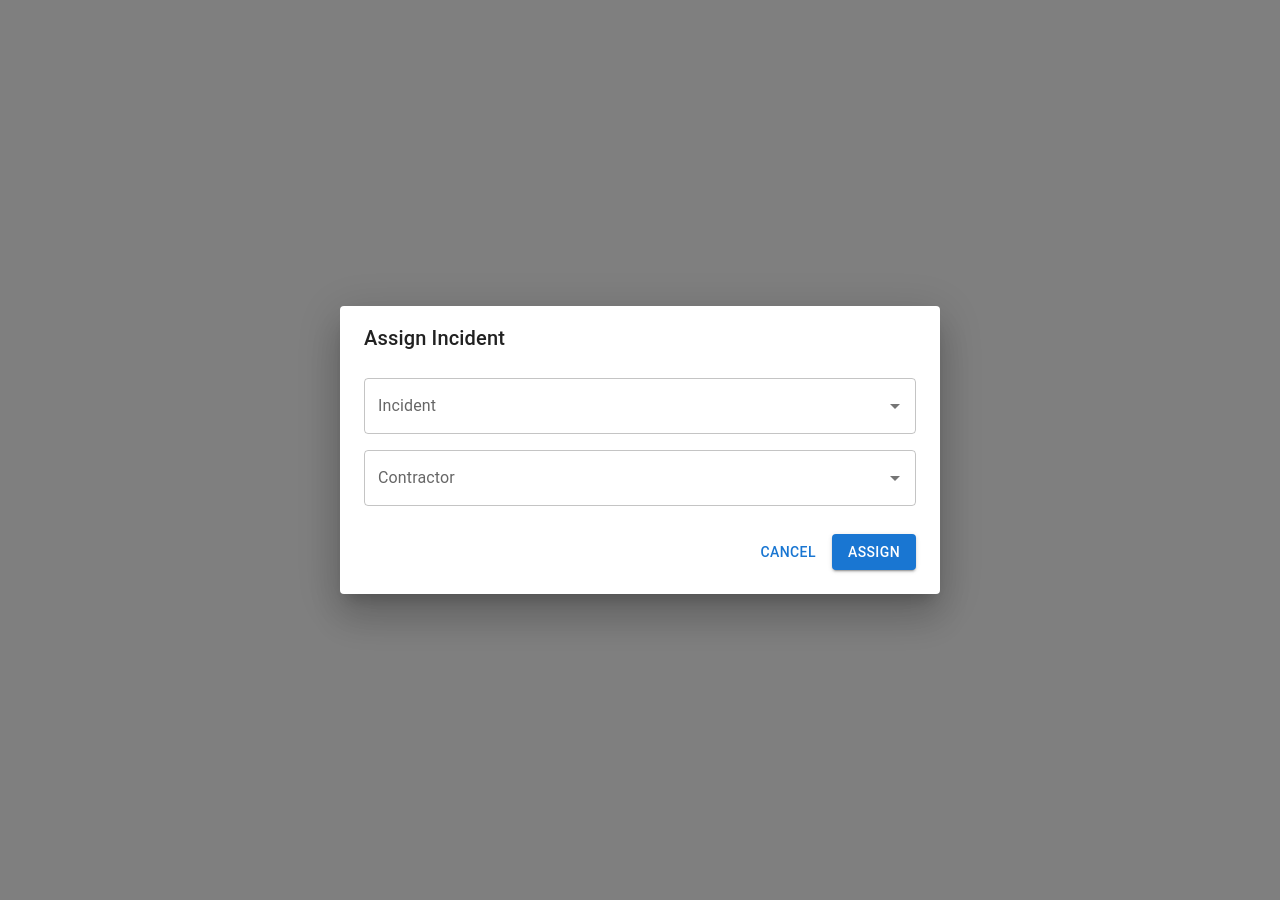
Test: AssignIncidentModal contractor eligibility › shows a contractor specialised in OTHER regardless of the incident's issue type
Click the dropdown labelled "Incident": [625, 406] box [373,387,877,425]
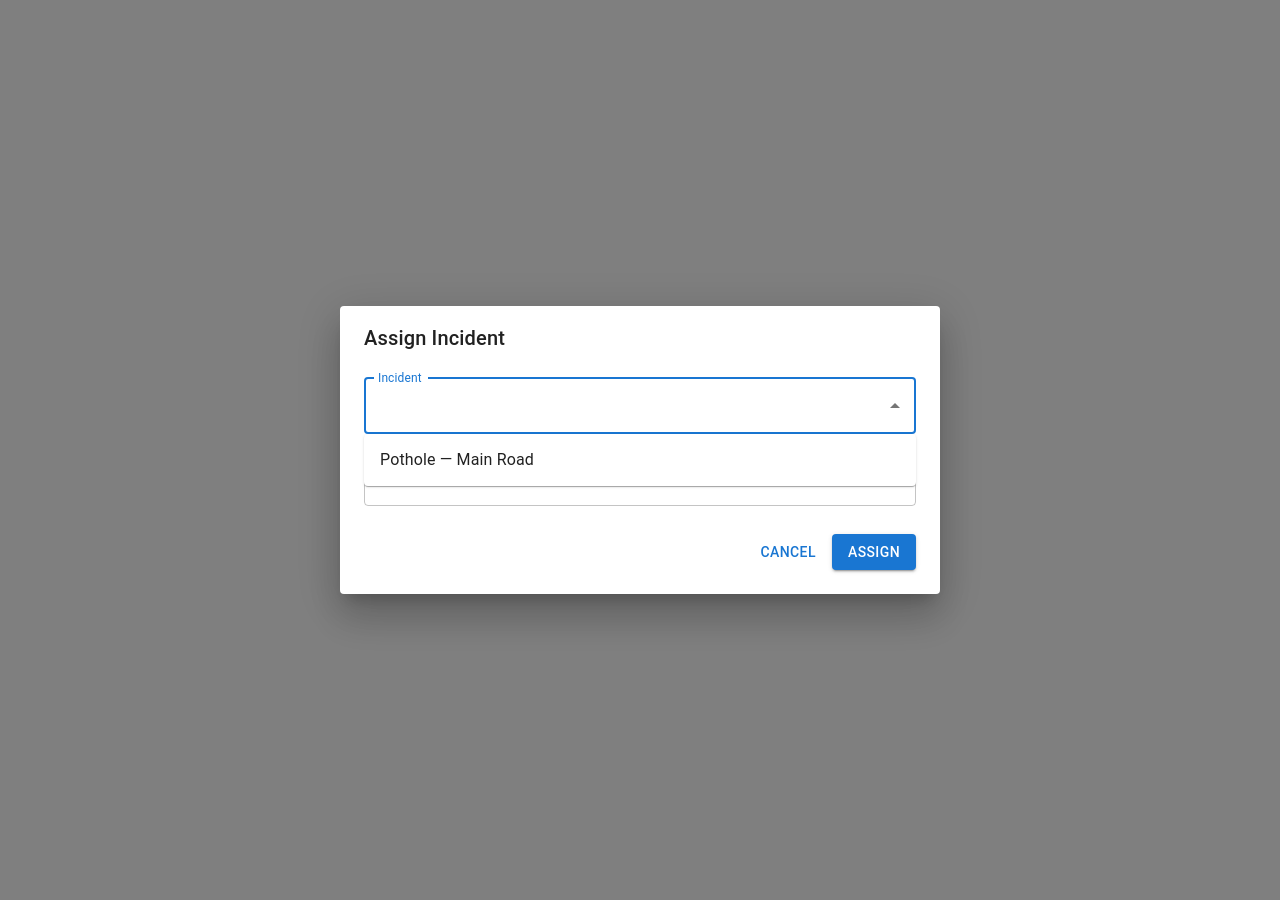
Click the option "Pothole — Main Road": [457, 460] box [380,450,534,469]
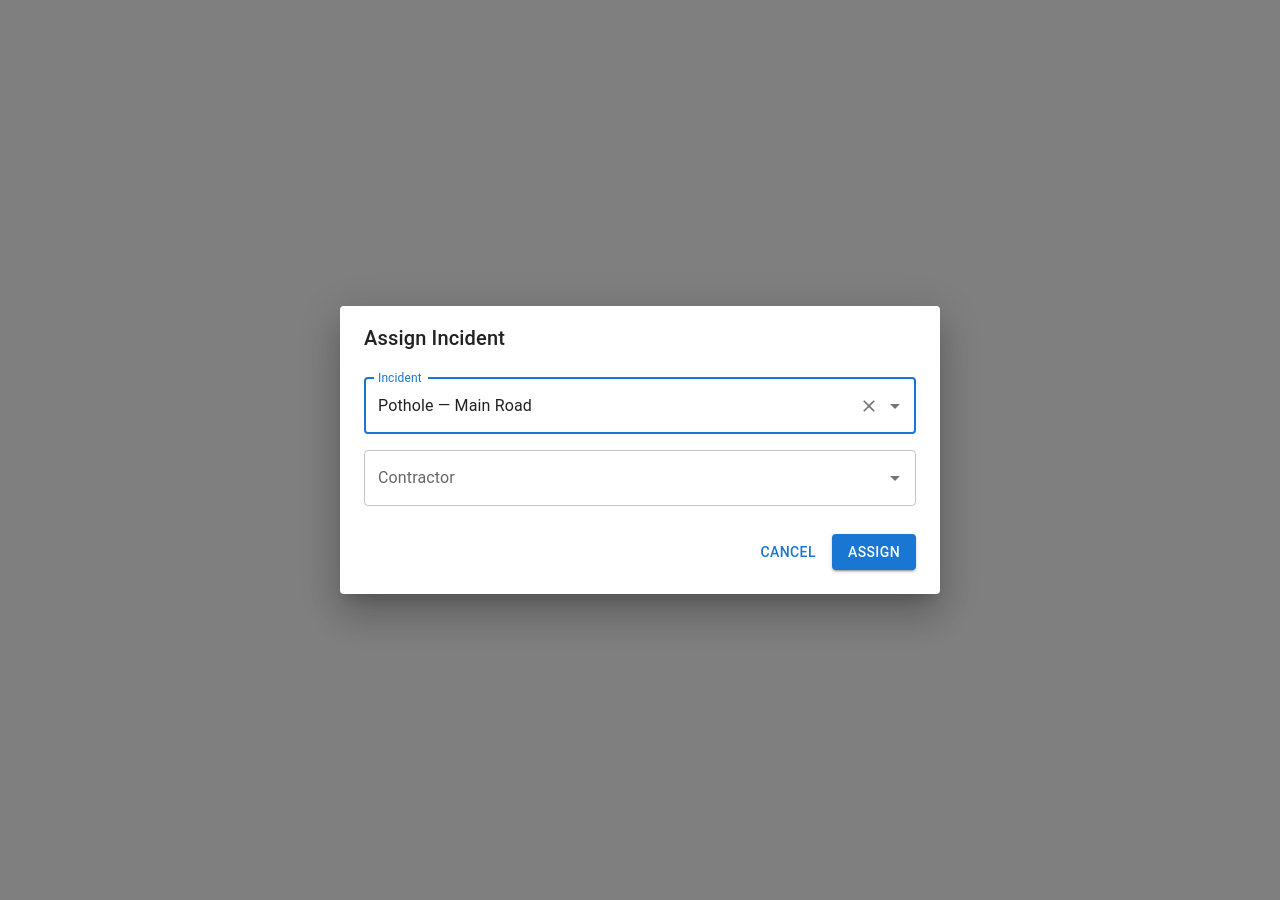
Click the dropdown labelled "Contractor": [625, 478] box [373,459,877,497]
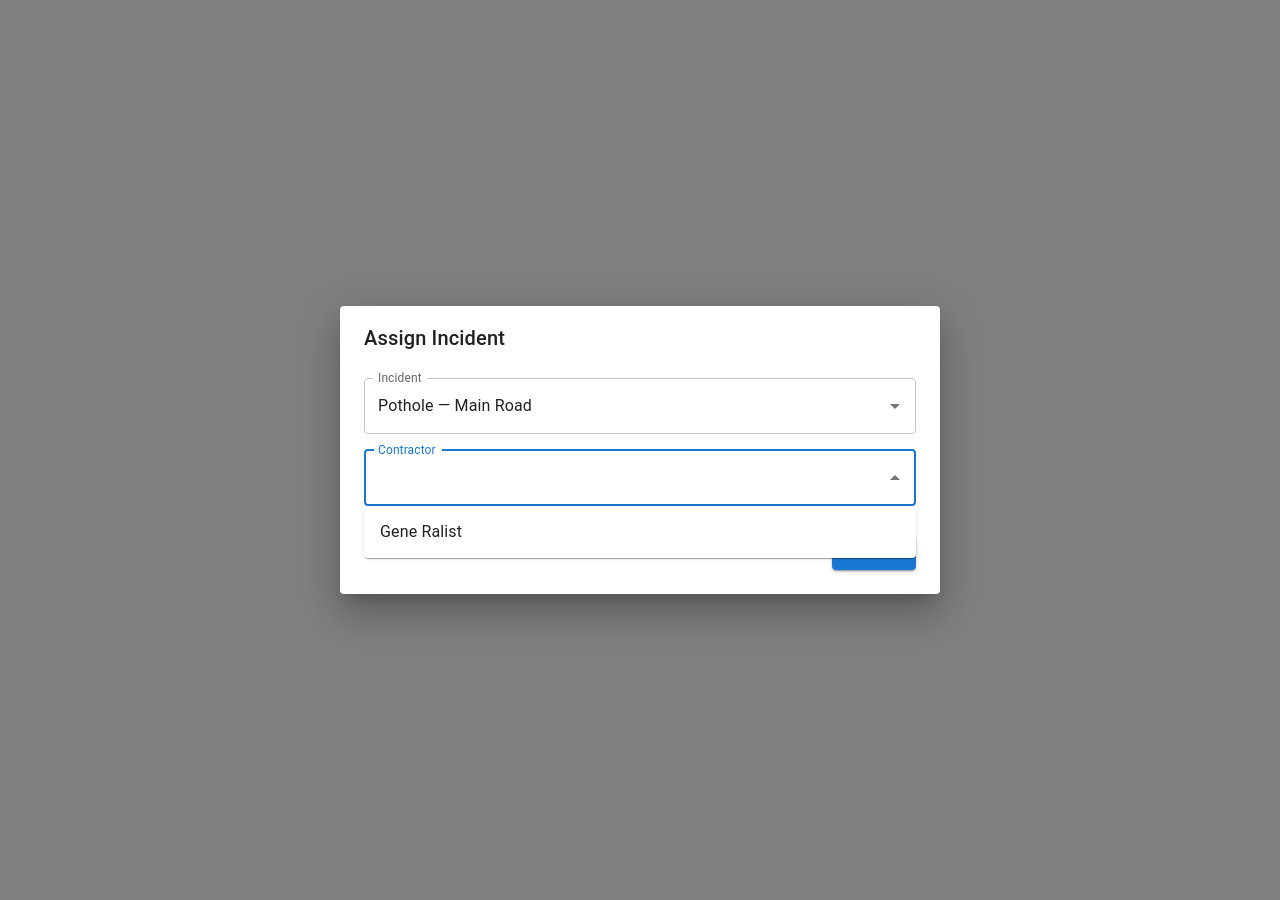
Expected: the option "Gene Ralist" is shown, [380,522,462,541]
